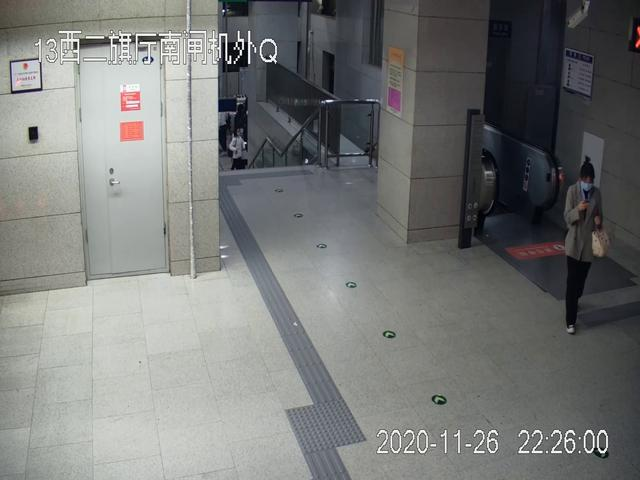person: (559, 155, 613, 335)
